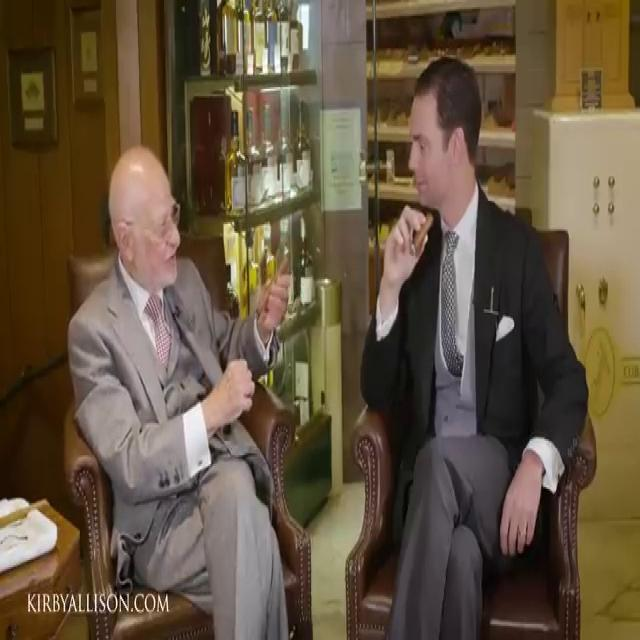Smooking: (411, 203, 432, 268)
